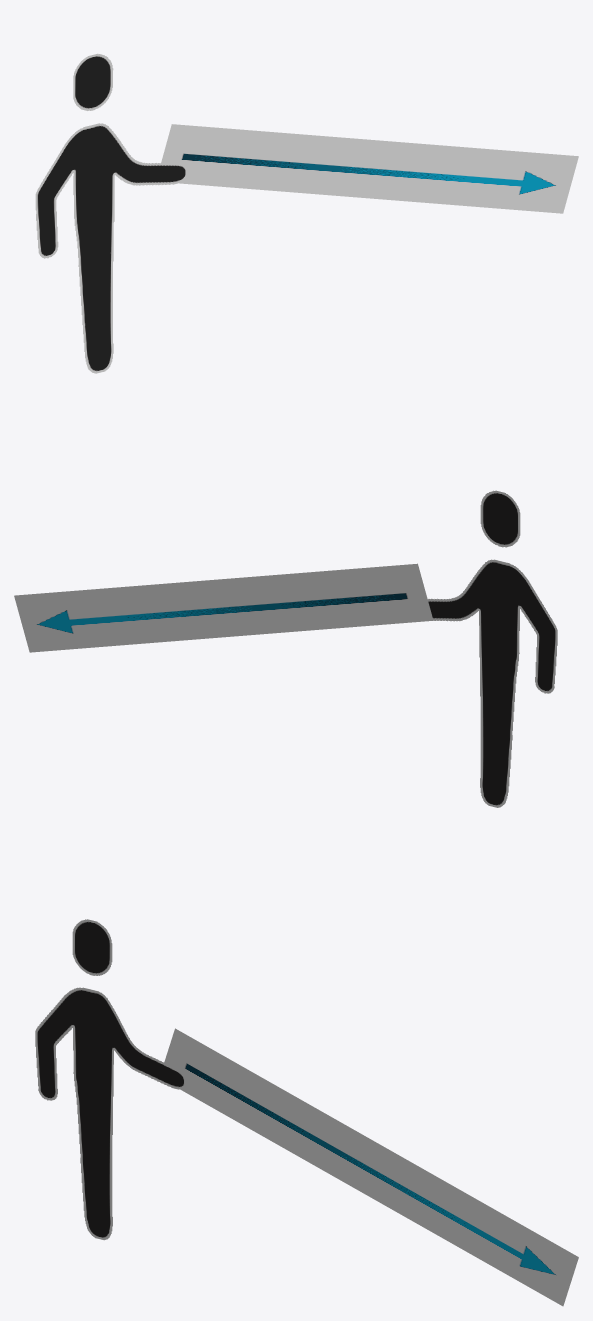
File: teleport-guy.fbx
The picture shows the model from 3 angles, top to bottom: view 1: azimuth 30°, elevation 25°; view 2: azimuth 150°, elevation 25°; view 3: azimuth 330°, elevation 25°; orthographic projection.
Visible parts, largest first — view 1: Plane.003; view 2: Plane.003; view 3: Plane.003.
Part boxes in pixels (x1,y1,x2,y2): Plane.003: (35, 53, 578, 373); Plane.003: (14, 490, 557, 807); Plane.003: (35, 919, 578, 1306).
Size of the model in its own units: 118 by 74.16 by 0.8333.
2 materials, 2 textured.
